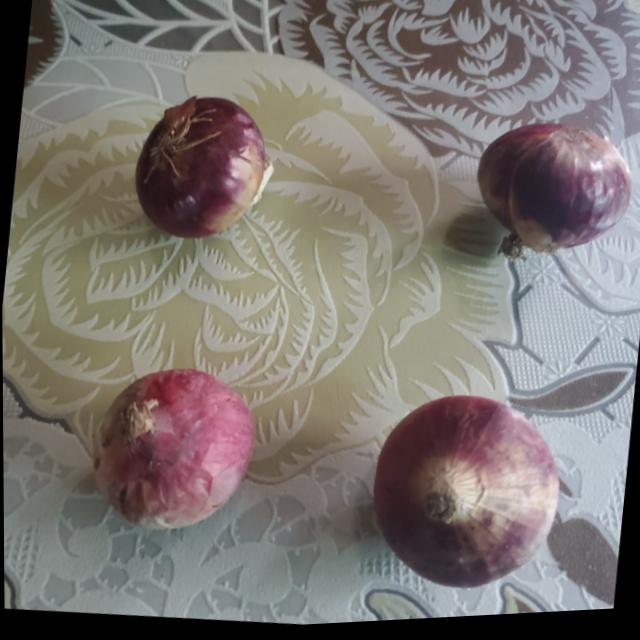onion: (361, 383, 568, 603), (97, 357, 256, 538), (473, 112, 640, 266), (128, 85, 274, 249)
